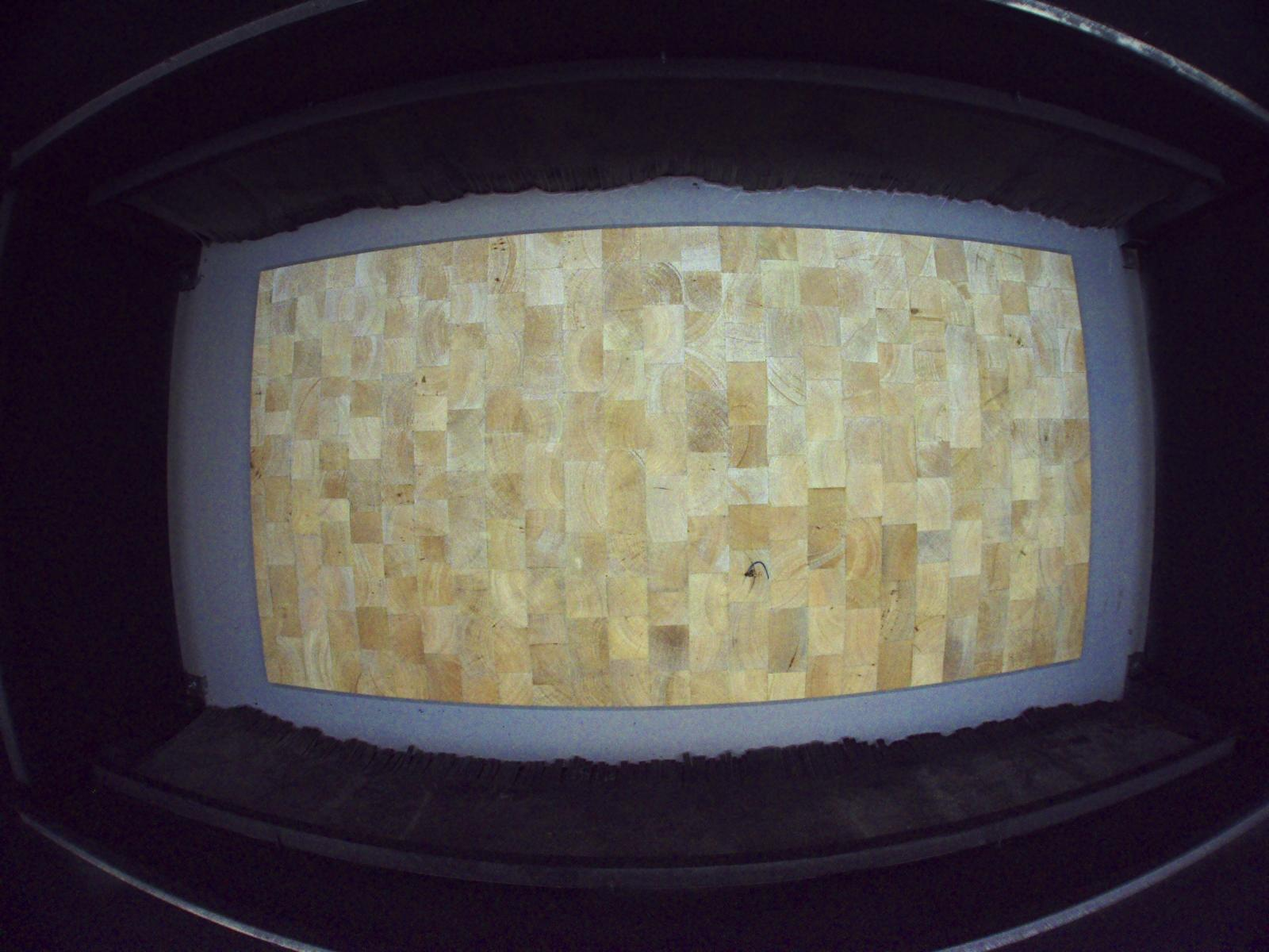sheck_ecuatoriano: (740, 550, 758, 597)
